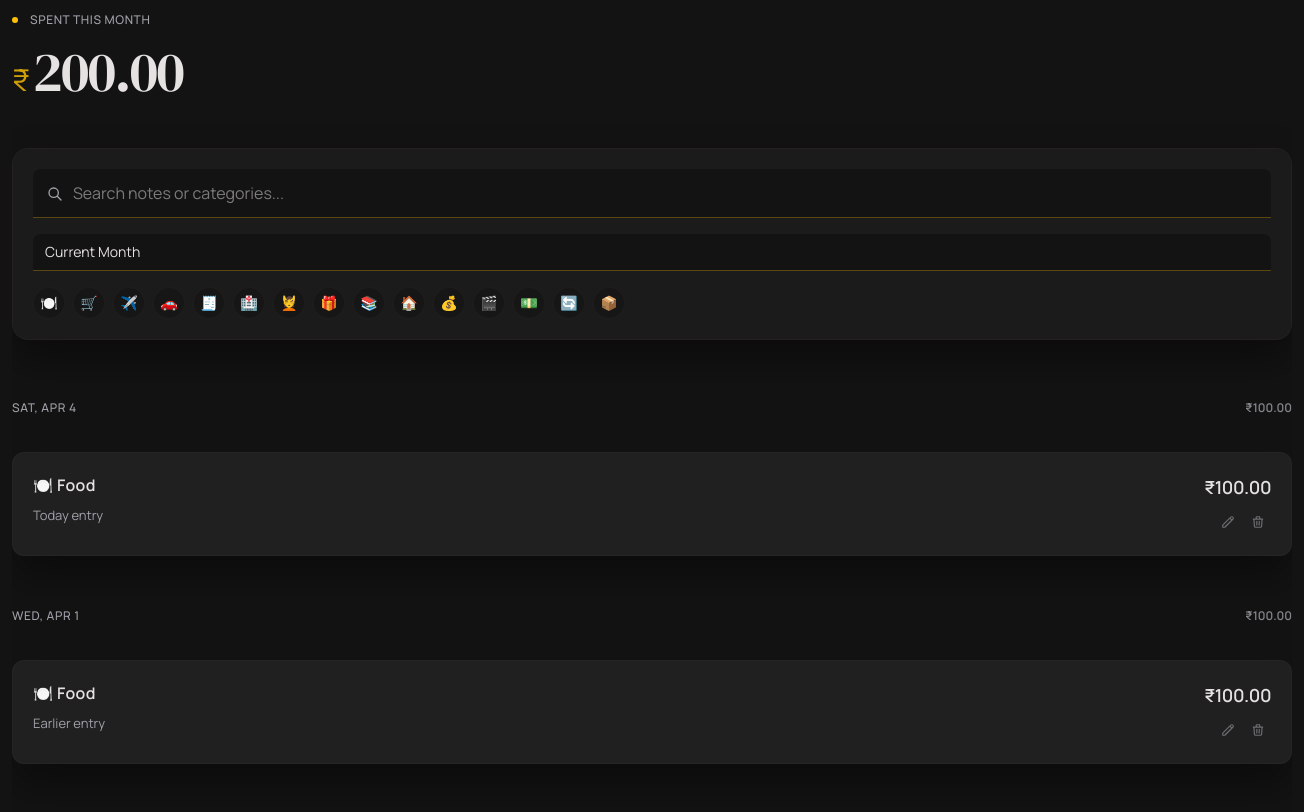
Scenario: ExpenseList › filters by "today" and shows only today's entries
Expected: the text "Today entry" is shown, [33,506,103,524]
Expected: the text "Earlier entry" is shown, [33,714,105,732]
Select "Today" in the dropdown at {"x": 652, "y": 252}, box [33,234,1271,271]
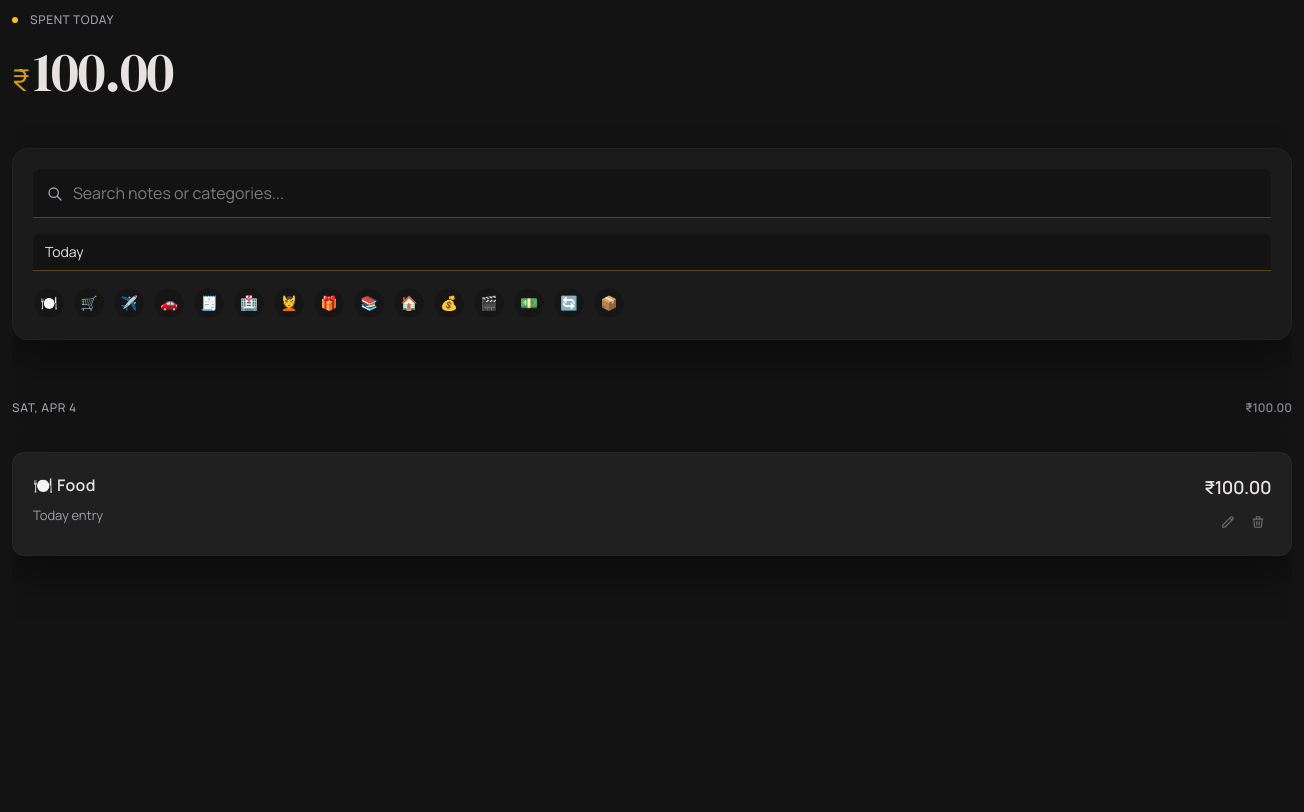
Expected: the text "Today entry" is shown, [33,506,103,524]
Expected: the text "Earlier entry" is gone
